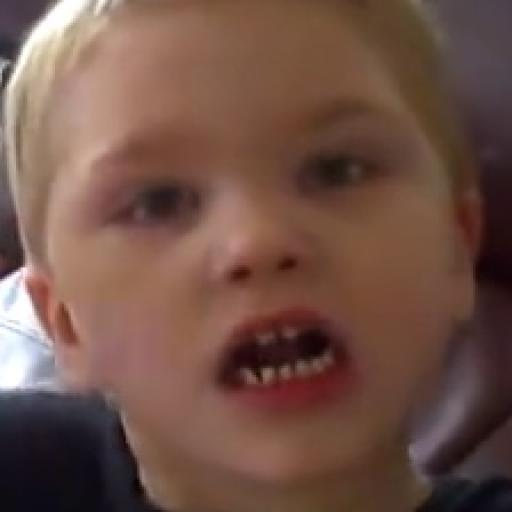Autism: (14, 28, 512, 511)
